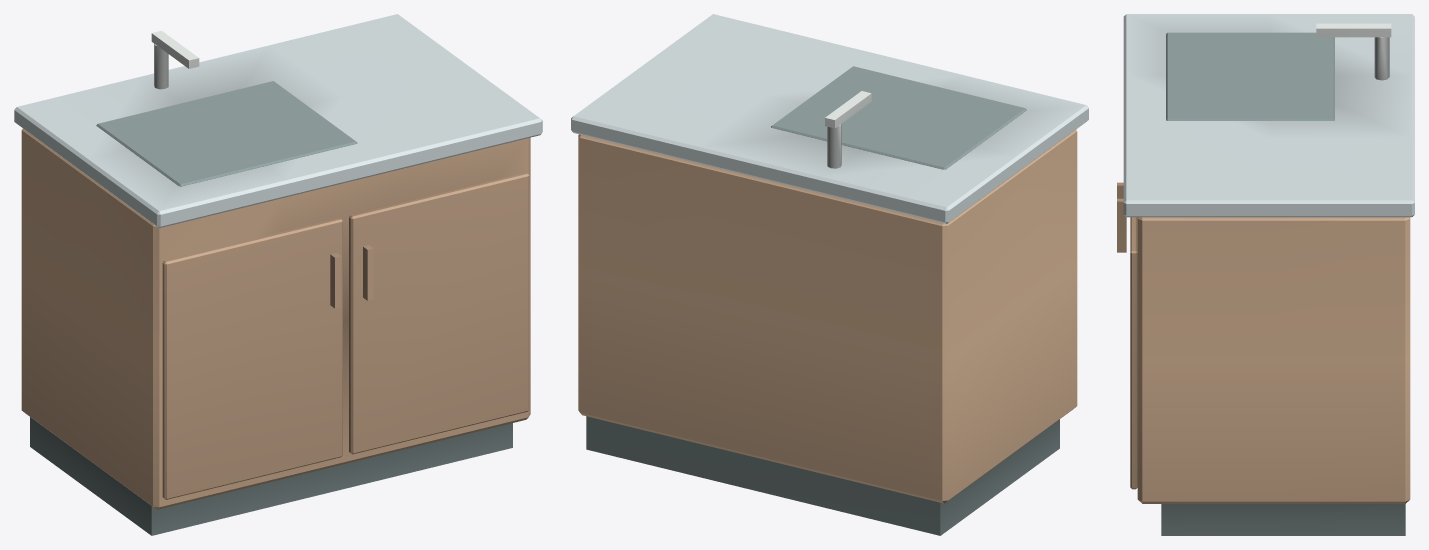
File: lab_sink.glb
3 renders of one model, left to right at view 1: azimuth 30°, elevation 25°; view 2: azimuth 150°, elevation 25°; view 3: azimuth 270°, elevation 25°, orthographic. The views are drawn at different scales.
Visible parts, largest first — view 1: door, cabinet, top, bowl, plinth, tap; view 2: cabinet, top, plinth, bowl, tap; view 3: cabinet, top, bowl, plinth, door, tap.
Part boxes in pixels (x1,y1,x2,y2): door: (162,172,529,499); cabinet: (21,128,530,509); top: (14,14,542,227); bowl: (96,81,357,186); plinth: (30,417,512,535); tap: (151,30,199,89); cabinet: (578,130,1077,503); top: (571,14,1088,223); plinth: (586,416,1059,535); bowl: (771,66,1026,169); tap: (825,91,871,168); cabinet: (1137,217,1410,503); top: (1123,14,1414,217); bowl: (1166,32,1334,120); plinth: (1161,504,1405,535); door: (1117,182,1137,489); tap: (1316,23,1391,80).
Size of the model in its own units: 0.95 by 0.92 by 0.634.
